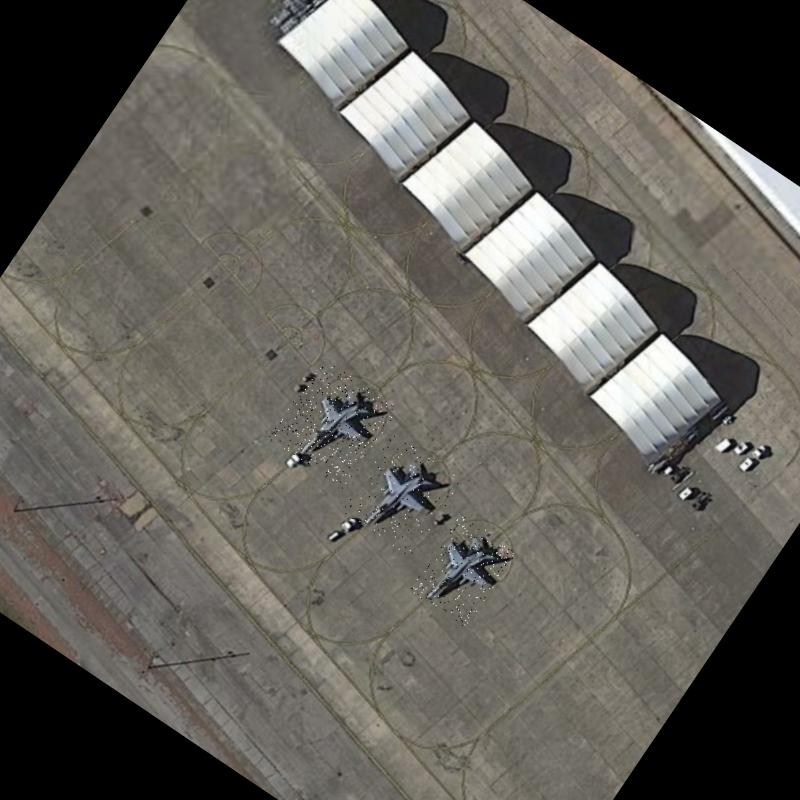A16: (268, 358, 399, 490), (339, 434, 464, 560), (408, 514, 518, 630)
